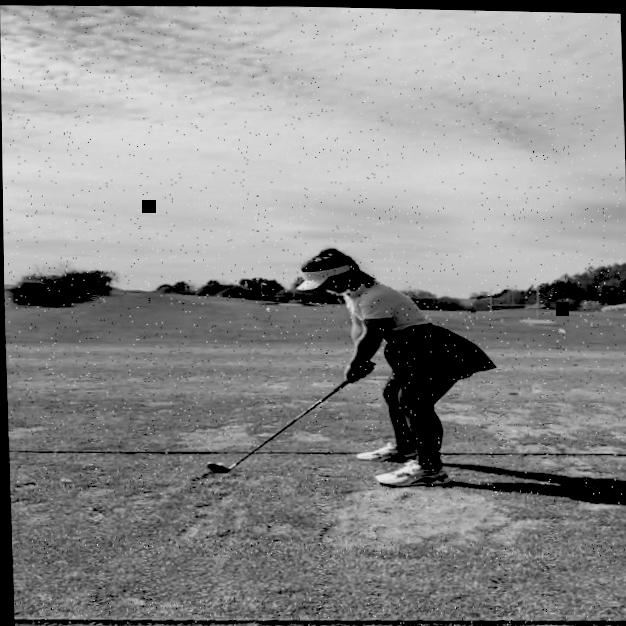ClubHead: (205, 460, 228, 473)
GolfBall: (216, 461, 226, 464)
